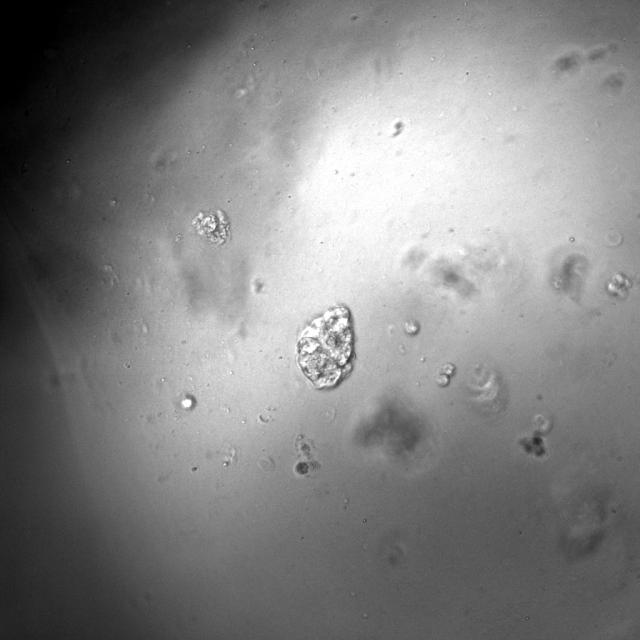organoid: (296, 305, 354, 389), (192, 210, 230, 245), (519, 430, 547, 457), (606, 272, 632, 299), (437, 363, 455, 386), (294, 460, 309, 475), (405, 319, 419, 335)
